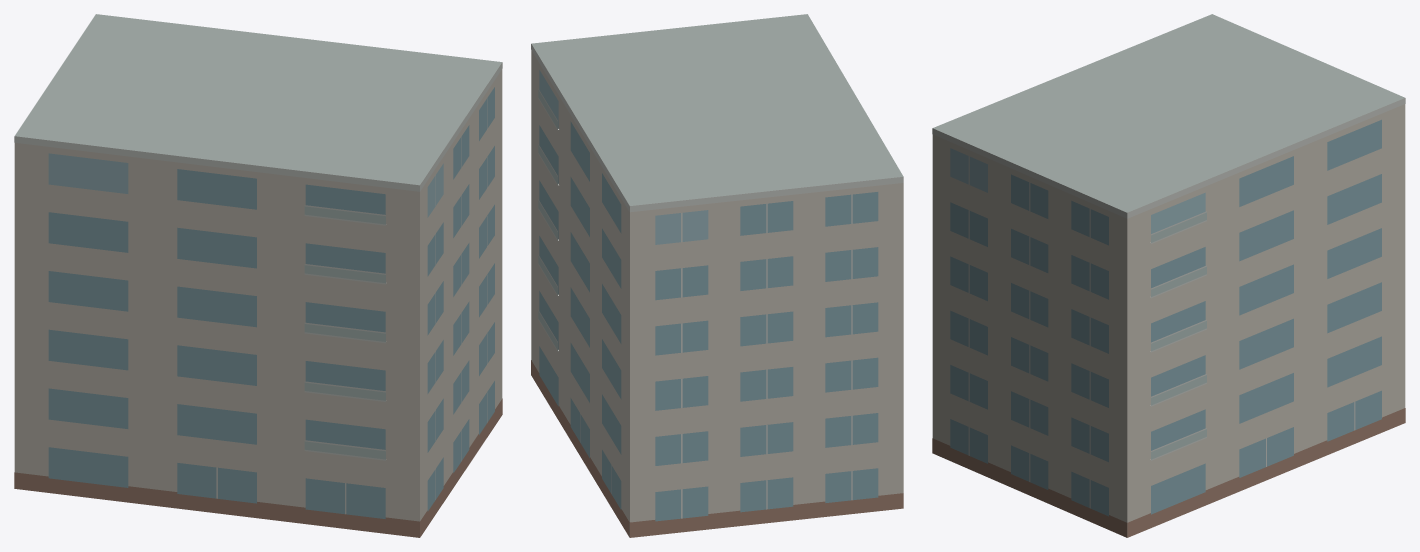
File: survey-upis-32959343.glb
The picture shows the model from 3 angles, left to right: view 1: azimuth 30°, elevation 25°; view 2: azimuth 150°, elevation 25°; view 3: azimuth 270°, elevation 25°; orthographic projection. The views are drawn at different scales.
Parts seen in each view (by area): view 1: survey-upis-32959343.tmp; view 2: survey-upis-32959343.tmp; view 3: survey-upis-32959343.tmp.
Boxes of the visible parts, x1,y1,x2,y2 form: survey-upis-32959343.tmp: [14, 14, 502, 537]; survey-upis-32959343.tmp: [531, 14, 903, 537]; survey-upis-32959343.tmp: [932, 14, 1405, 537].
Bounding box in the file's own units: 17.32 × 13.2 × 17.41.
